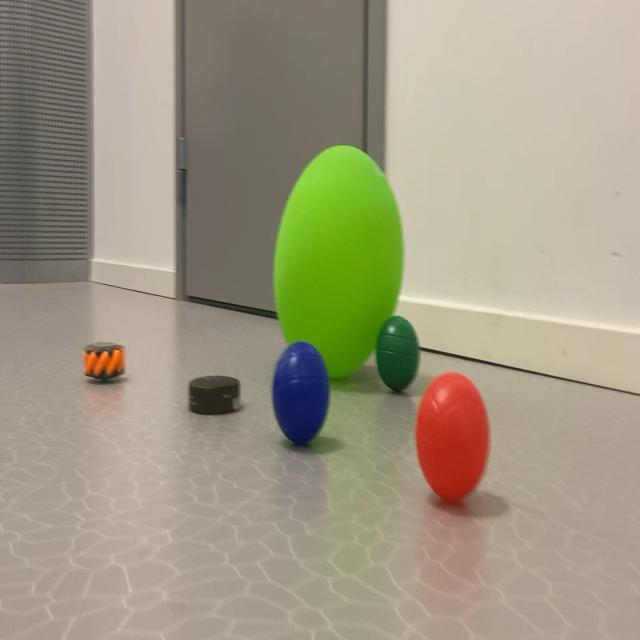7: (395, 344, 497, 538)
green ball: (252, 329, 345, 482)
red ball: (370, 293, 428, 414)
